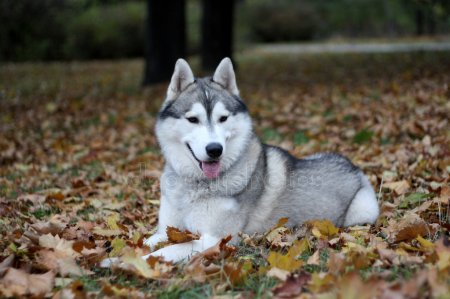husky: (124, 48, 382, 256)
